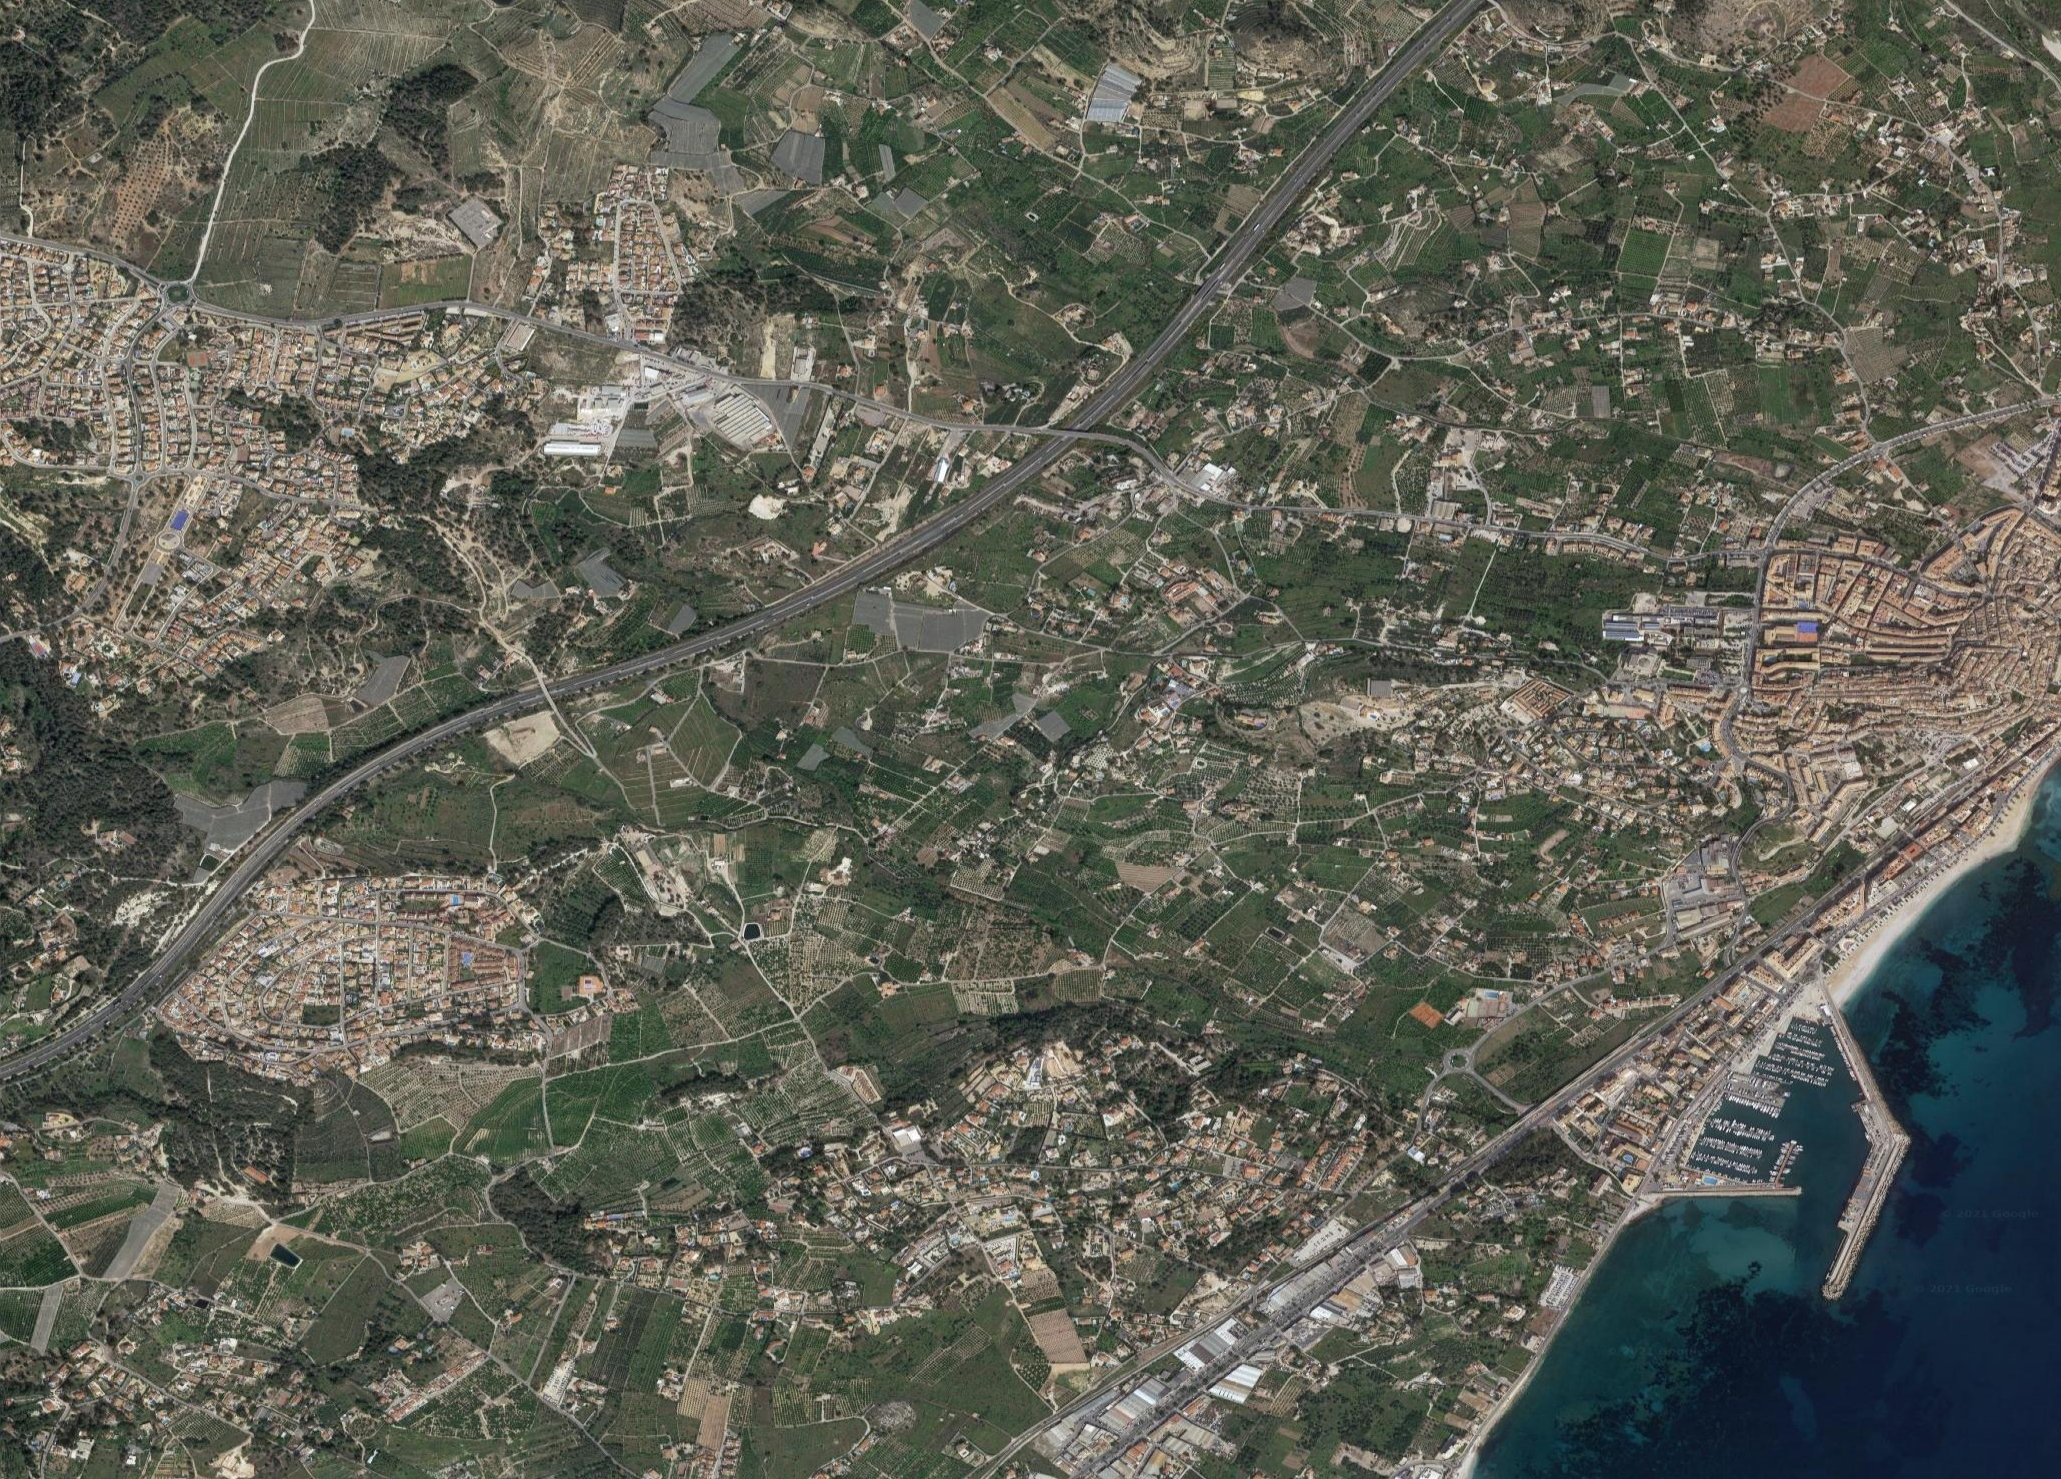harbor: (1664, 991, 1931, 1306)
industrial: (1027, 1303, 1306, 1479), (554, 347, 795, 482)
motorway: (859, 365, 1139, 571), (514, 552, 862, 715), (234, 688, 512, 880), (2, 879, 230, 1093), (1133, 138, 1322, 371), (1328, 2, 1482, 142)
